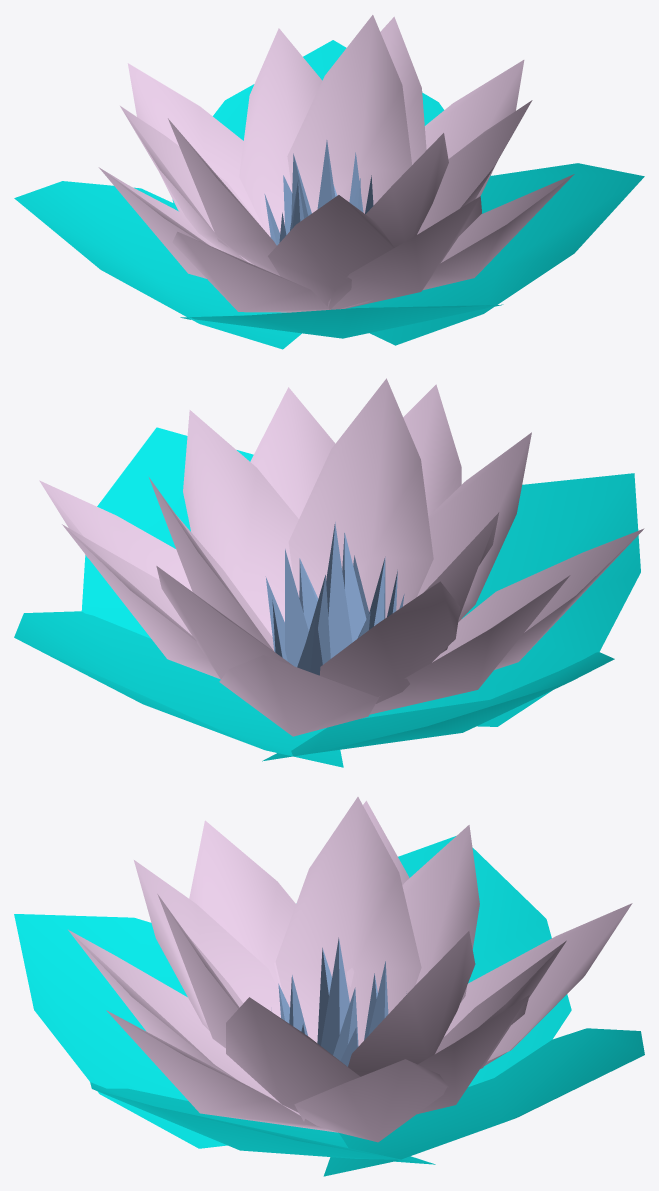
Rendered from a_flower1.fbx.
3 renders of one model, top to bottom at view 1: azimuth 30°, elevation 25°; view 2: azimuth 150°, elevation 25°; view 3: azimuth 270°, elevation 25°, orthographic. The views are drawn at different scales.
Visible parts, largest first — view 1: polySurface1; view 2: polySurface1; view 3: polySurface1.
Part boxes in pixels (<box>): polySurface1: <box>14,15,644,349</box>; polySurface1: <box>14,378,644,767</box>; polySurface1: <box>14,797,644,1176</box>.
Size of the model in its own units: 10.35 by 4.6 by 10.15.
